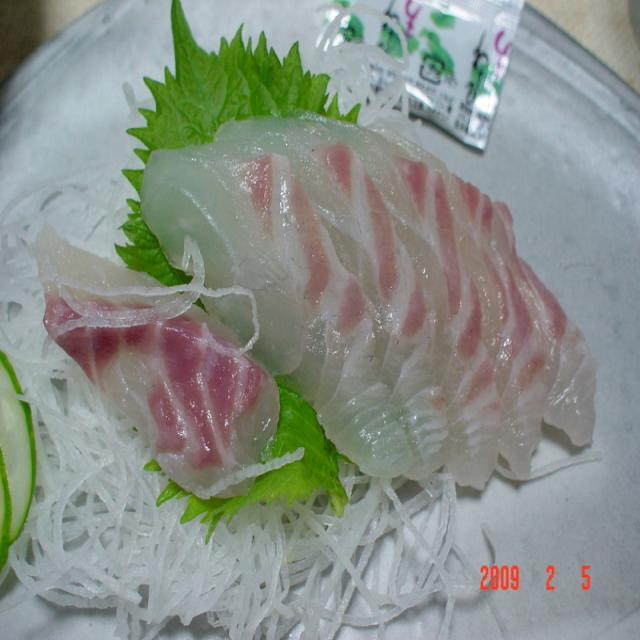刺身生食: (0, 30, 640, 562)
